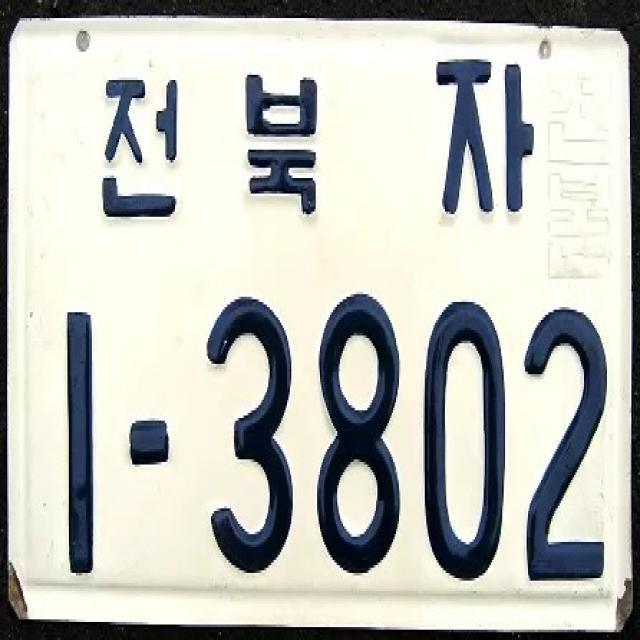car: (5, 11, 637, 636)
